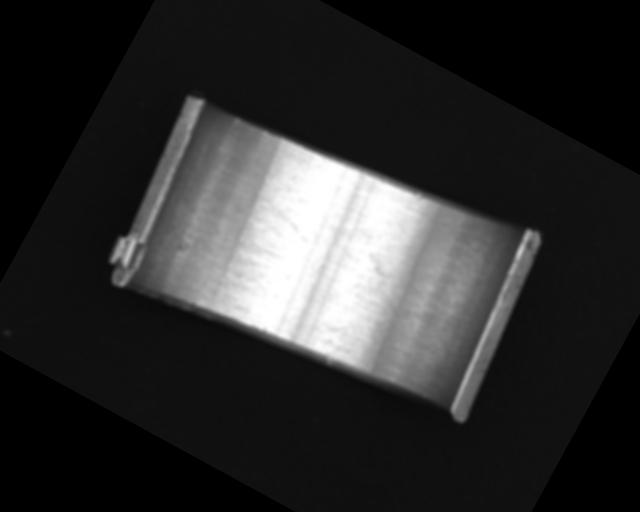blot: (348, 248, 416, 313)
bruise: (413, 191, 425, 203)
nick: (229, 115, 241, 131)
